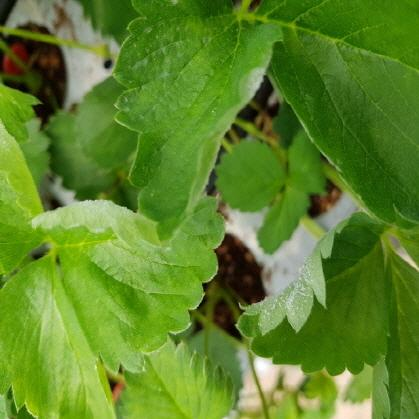Powdery Mildew Leaf: (110, 0, 283, 243), (27, 193, 225, 374), (234, 212, 391, 375)
